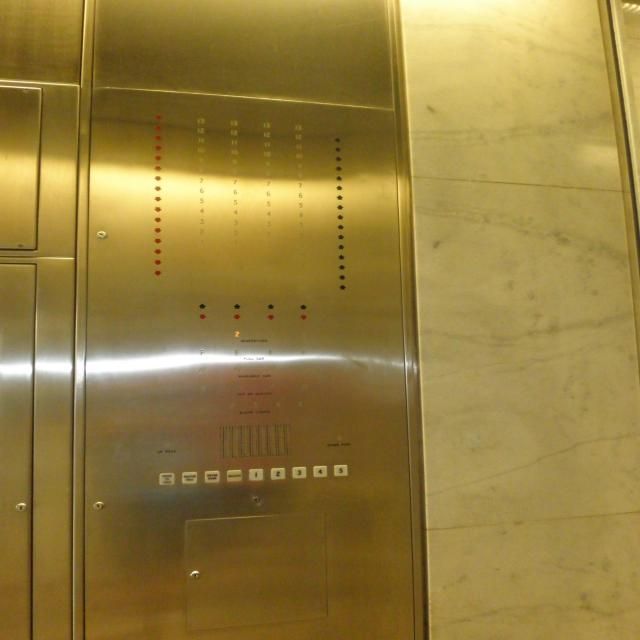1: (248, 467, 264, 482)
2: (270, 466, 286, 481)
3: (292, 465, 308, 479)
4: (312, 465, 328, 478)
5: (333, 464, 348, 476)
keyhole: (188, 569, 201, 582), (91, 500, 104, 513), (14, 502, 27, 515), (95, 229, 108, 242)
text: (158, 472, 175, 486), (204, 469, 219, 484), (226, 468, 242, 482), (181, 470, 197, 484)
